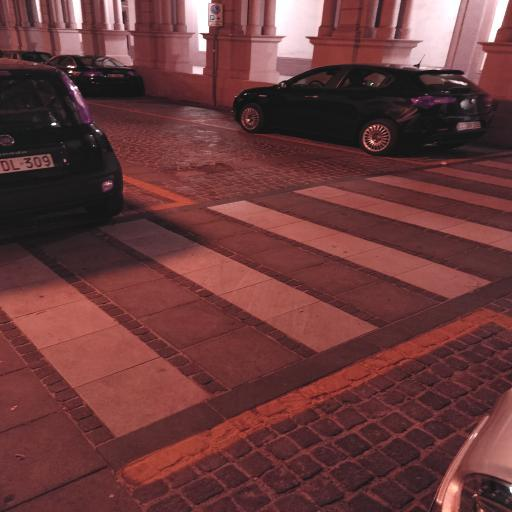crosswalk: (92, 194, 507, 361)
